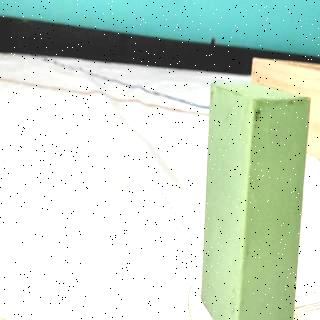greenbox: (202, 80, 310, 320)
